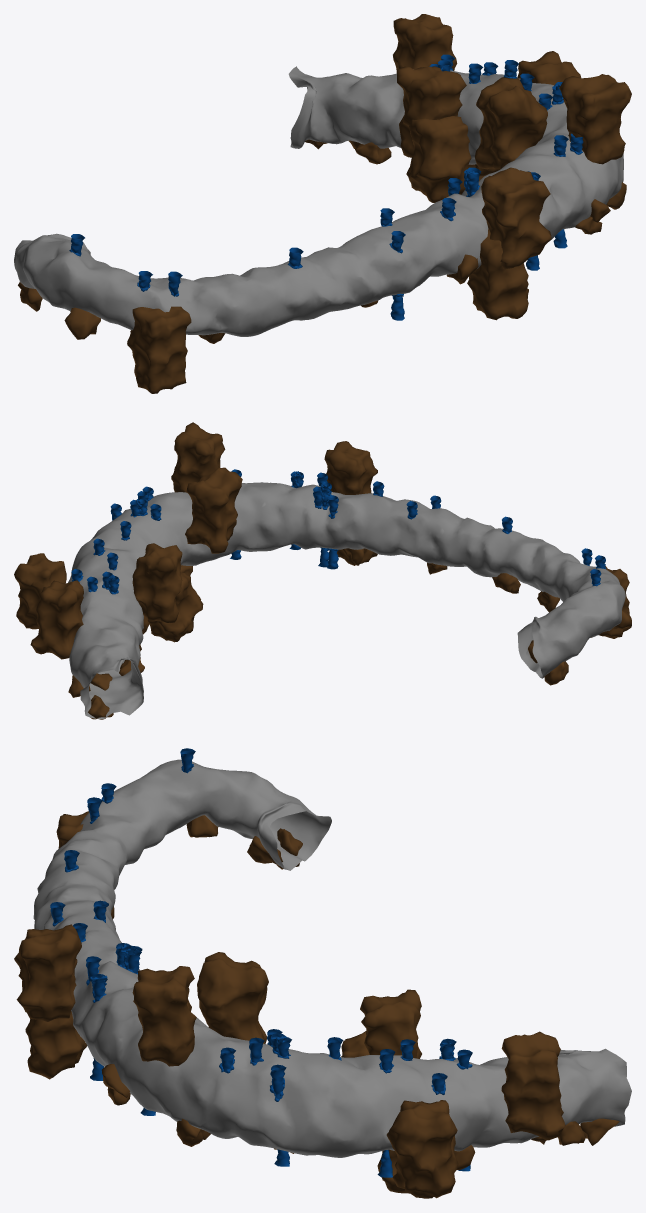
The model's file is caveNewNormals.fbx.
3 renders of one model, top to bottom at view 1: azimuth 30°, elevation 25°; view 2: azimuth 150°, elevation 25°; view 3: azimuth 270°, elevation 25°, orthographic. The views are drawn at different scales.
Parts seen in each view (by area): view 1: merge2; view 2: merge2; view 3: merge2.
Part boxes in pixels (left/top/right/bottom): merge2: left=14, top=14, right=631, bottom=393; merge2: left=14, top=422, right=631, bottom=719; merge2: left=14, top=748, right=631, bottom=1198.
Bounding box in the file's own units: 265 × 82.35 × 206.
